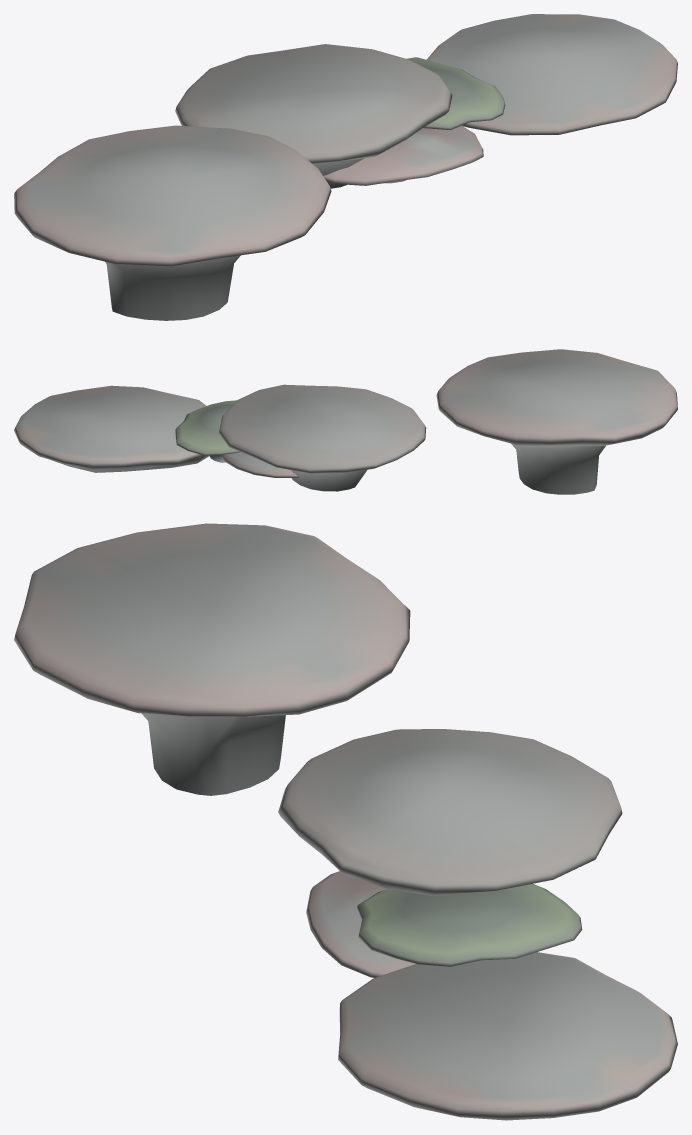
3 renders of one model, top to bottom at view 1: azimuth 30°, elevation 25°; view 2: azimuth 150°, elevation 25°; view 3: azimuth 270°, elevation 25°, orthographic. The views are drawn at different scales.
Parts seen in each view (by area): view 1: G:\FFXIV-MapTools\exports\e3f1\bg\ex2\02_est_e3\fld\e3f1\bgp (×3); view 2: G:\FFXIV-MapTools\exports\e3f1\bg\ex2\02_est_e3\fld\e3f1\bgp (×3); view 3: G:\FFXIV-MapTools\exports\e3f1\bg\ex2\02_est_e3\fld\e3f1\bgp (×3).
Part boxes in pixels (x1=…): G:\FFXIV-MapTools\exports\e3f1\bg\ex2\02_est_e3\fld\e3f1\bgp (×3): x1=14, y1=14, x2=677, y2=320; G:\FFXIV-MapTools\exports\e3f1\bg\ex2\02_est_e3\fld\e3f1\bgp (×3): x1=14, y1=349, x2=677, y2=494; G:\FFXIV-MapTools\exports\e3f1\bg\ex2\02_est_e3\fld\e3f1\bgp (×3): x1=14, y1=523, x2=677, y2=1120.
Size of the model in its own units: 224 by 35.14 by 130.
